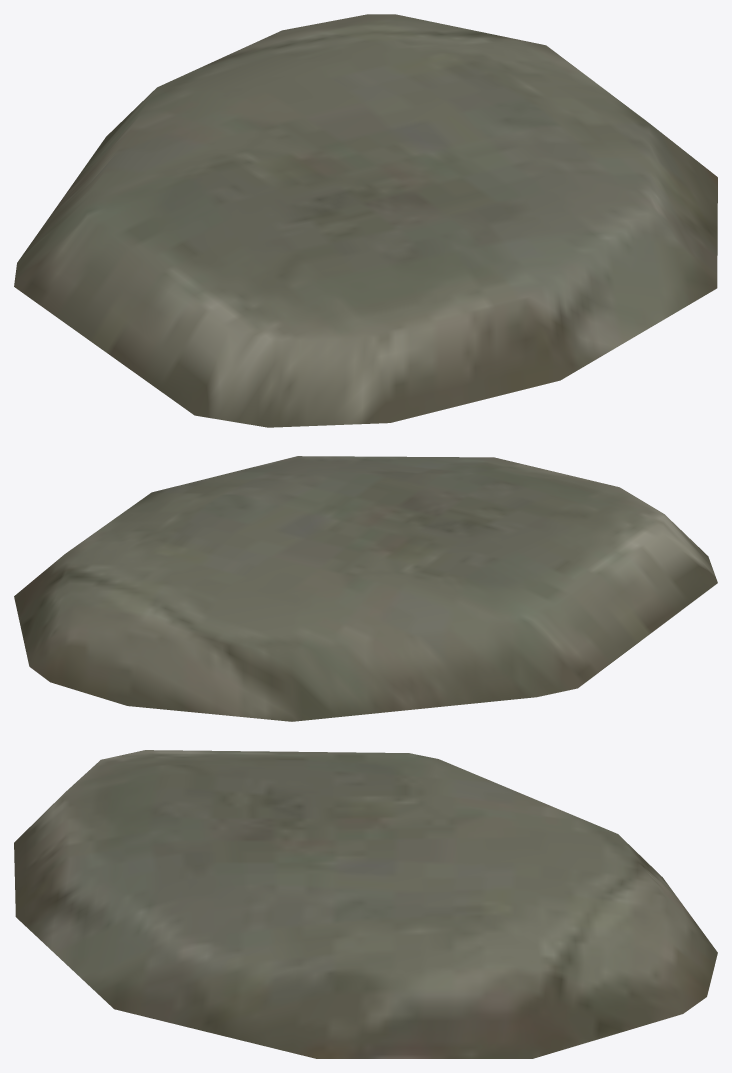
The picture shows the model from 3 angles, top to bottom: view 1: azimuth 30°, elevation 25°; view 2: azimuth 150°, elevation 25°; view 3: azimuth 270°, elevation 25°; orthographic projection. The views are drawn at different scales.
Size of the model in its own units: 1.55 by 0.1952 by 1.65.
Materials: 1 (1 with a texture image).
